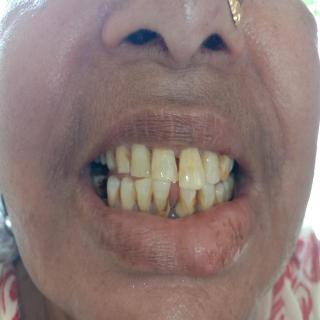LL1BC_mdecay: (216, 184, 226, 203)
LLCI_sdecay: (180, 190, 197, 214)
LLC_sdecay: (198, 184, 215, 209)
LR1BC_healthy: (107, 176, 120, 207)
LRCI_sdecay: (152, 182, 171, 212)
LRC_healthy: (120, 176, 136, 209)
LRLI_sdecay: (135, 178, 152, 212)
ULCI_healthy: (178, 148, 205, 190)
ULC_mdecay: (218, 154, 230, 181)
ULLI_mdecay: (201, 151, 221, 184)
UR1BC_healthy: (106, 150, 115, 170)
URCI_healthy: (151, 148, 179, 183)
URC_mdecay: (115, 146, 131, 173)
URLI_healthy: (130, 144, 150, 179)
